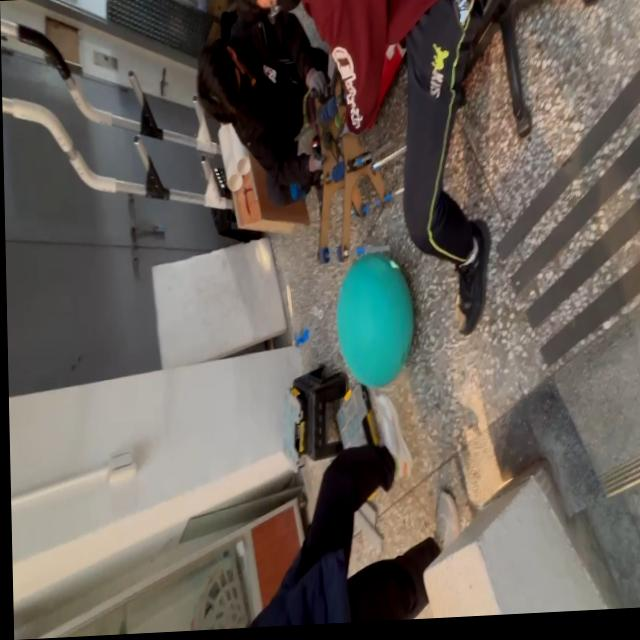ALGAE: (333, 248, 417, 392)
